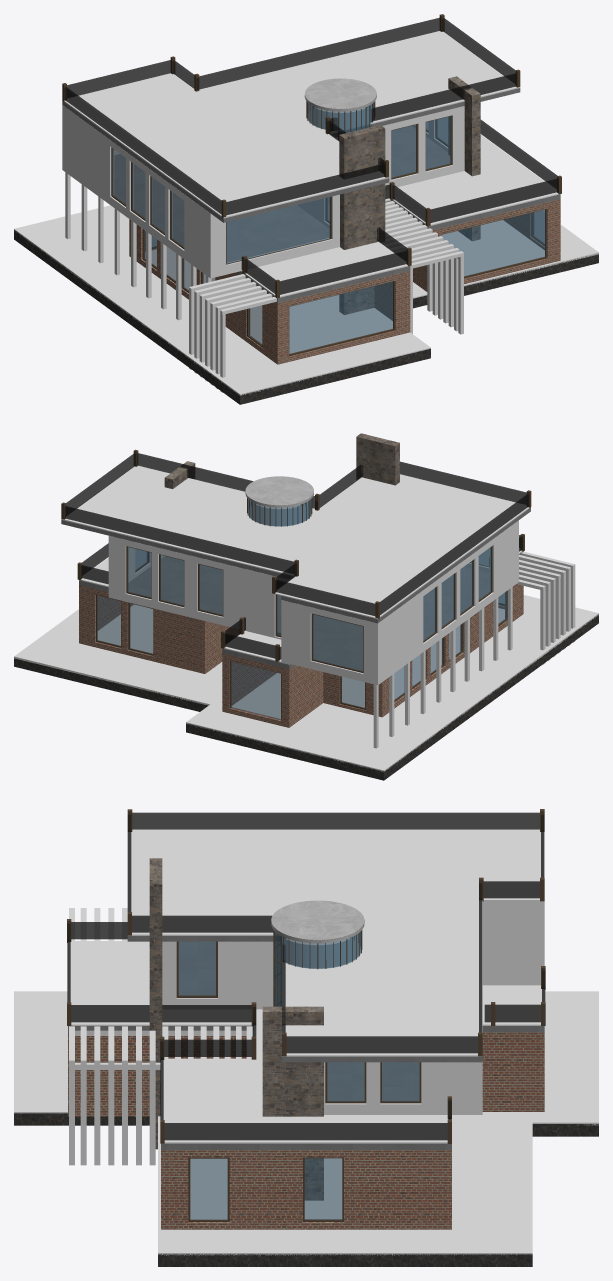
File: casa4.fbx
3 renders of one model, top to bottom at view 1: azimuth 30°, elevation 25°; view 2: azimuth 150°, elevation 25°; view 3: azimuth 270°, elevation 25°, orthographic. The views are drawn at different scales.
Parts seen in each view (by area): view 1: Line010_Wall Paint_0, Line025_Wall Paint_0, Line002_Ceramic_0, Shape063_01 - Default_0, Line006_Wall Paint_0, Line001_Solid Glass_0, Line004_Wall Paint_0, Line007_Metal_0, Line021, Box036_15 - Glossy Plastic_0, Shape020_03 - Default_0, Line024_23 - Default_0 (+16 smaller); view 2: Line010_Wall Paint_0, Line025_Wall Paint_0, Line002_Ceramic_0, Line001_Solid Glass_0, Shape063_01 - Default_0, Line007_Metal_0, Line004_Wall Paint_0, Line023_23 - Default_0, Line024_23 - Default_0, Shape031_03 - Default_0, Line009_Metal_0, Shape047_03 - Default_0 (+19 smaller); view 3: Line010_Wall Paint_0, Line025_Wall Paint_0, Line001_Solid Glass_0, Line006_Wall Paint_0, Shape063_01 - Default_0, Line002_Ceramic_0, Line021, Line023_23 - Default_0, Box057_15 - Glossy Plastic_0, Line007_Metal_0, Line004_Wall Paint_0, Cylinder004_11 - Default_0 (+18 smaller).
Part boxes in pixels (x1=…): Line010_Wall Paint_0: x1=64, y1=31, x2=520, y2=218; Line025_Wall Paint_0: x1=14, y1=205, x2=598, y2=395; Line002_Ceramic_0: x1=62, y1=105, x2=464, y2=278; Shape063_01 - Default_0: x1=64, y1=17, x2=517, y2=215; Line006_Wall Paint_0: x1=241, y1=117, x2=560, y2=297; Line001_Solid Glass_0: x1=129, y1=199, x2=560, y2=364; Line004_Wall Paint_0: x1=145, y1=220, x2=544, y2=353; Line007_Metal_0: x1=114, y1=126, x2=450, y2=262; Line021: x1=241, y1=119, x2=558, y2=294; Box036_15 - Glossy Plastic_0: x1=339, y1=125, x2=385, y2=314; Shape020_03 - Default_0: x1=289, y1=281, x2=392, y2=353; Line024_23 - Default_0: x1=14, y1=234, x2=598, y2=404; Line010_Wall Paint_0: x1=61, y1=465, x2=529, y2=619; Line025_Wall Paint_0: x1=14, y1=593, x2=598, y2=772; Line002_Ceramic_0: x1=108, y1=520, x2=518, y2=685; Line001_Solid Glass_0: x1=79, y1=584, x2=523, y2=727; Shape063_01 - Default_0: x1=64, y1=453, x2=529, y2=615; Line007_Metal_0: x1=128, y1=556, x2=489, y2=670; Line004_Wall Paint_0: x1=97, y1=604, x2=504, y2=718; Line023_23 - Default_0: x1=14, y1=614, x2=598, y2=779; Line024_23 - Default_0: x1=14, y1=616, x2=598, y2=780; Shape031_03 - Default_0: x1=231, y1=661, x2=280, y2=719; Line009_Metal_0: x1=61, y1=507, x2=530, y2=623; Shape047_03 - Default_0: x1=313, y1=614, x2=362, y2=671; Line010_Wall Paint_0: x1=128, y1=830, x2=544, y2=1056; Line025_Wall Paint_0: x1=14, y1=991, x2=598, y2=1255; Line001_Solid Glass_0: x1=68, y1=1032, x2=544, y2=1229; Line006_Wall Paint_0: x1=68, y1=941, x2=544, y2=1143; Shape063_01 - Default_0: x1=127, y1=812, x2=544, y2=1053; Line002_Ceramic_0: x1=162, y1=901, x2=544, y2=1114; Line021: x1=67, y1=922, x2=451, y2=1140; Line023_23 - Default_0: x1=14, y1=1113, x2=598, y2=1265; Box057_15 - Glossy Plastic_0: x1=262, y1=1006, x2=323, y2=1200; Line007_Metal_0: x1=178, y1=941, x2=419, y2=1100; Line004_Wall Paint_0: x1=190, y1=1158, x2=342, y2=1219; Cylinder004_11 - Default_0: x1=271, y1=900, x2=364, y2=943.
Bounding box in the file's own units: 2001 × 953 × 1890.
